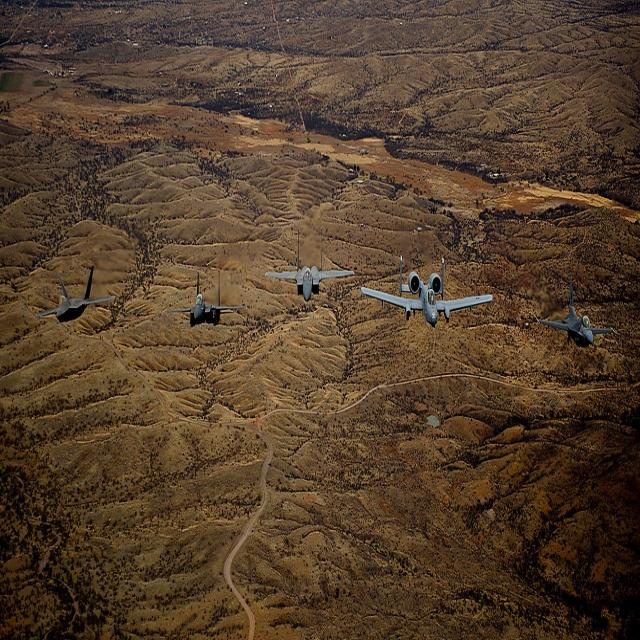MIL_Plane: (360, 255, 492, 329), (265, 226, 355, 302), (533, 272, 618, 349), (36, 263, 116, 322), (166, 271, 247, 327)
